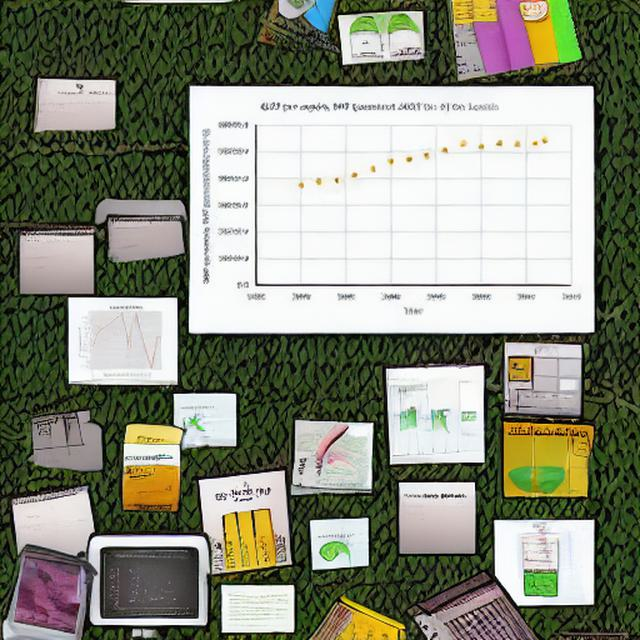Graph: (194, 94, 591, 329), (73, 301, 176, 378), (102, 554, 199, 618)
